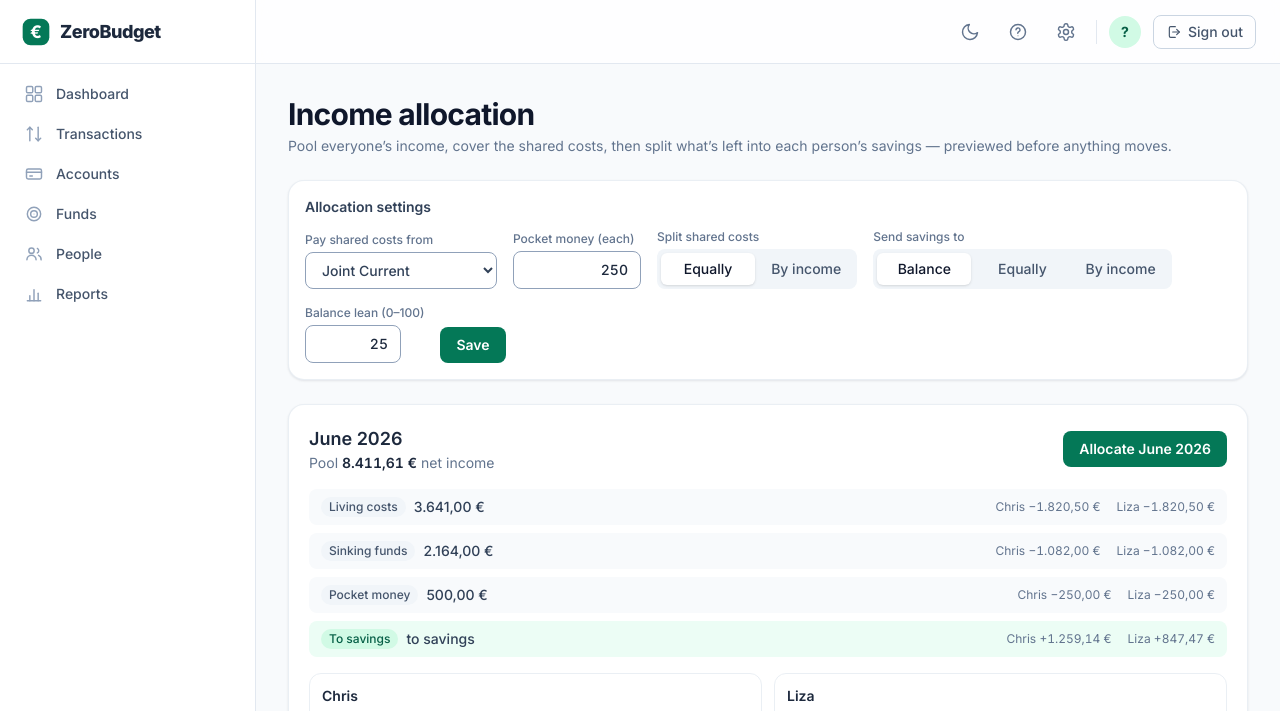
it: AllocationPage › commits the allocation
Click the button with aria-label "Commit allocation".
click(1145, 449)  # box [1063,431,1227,467]
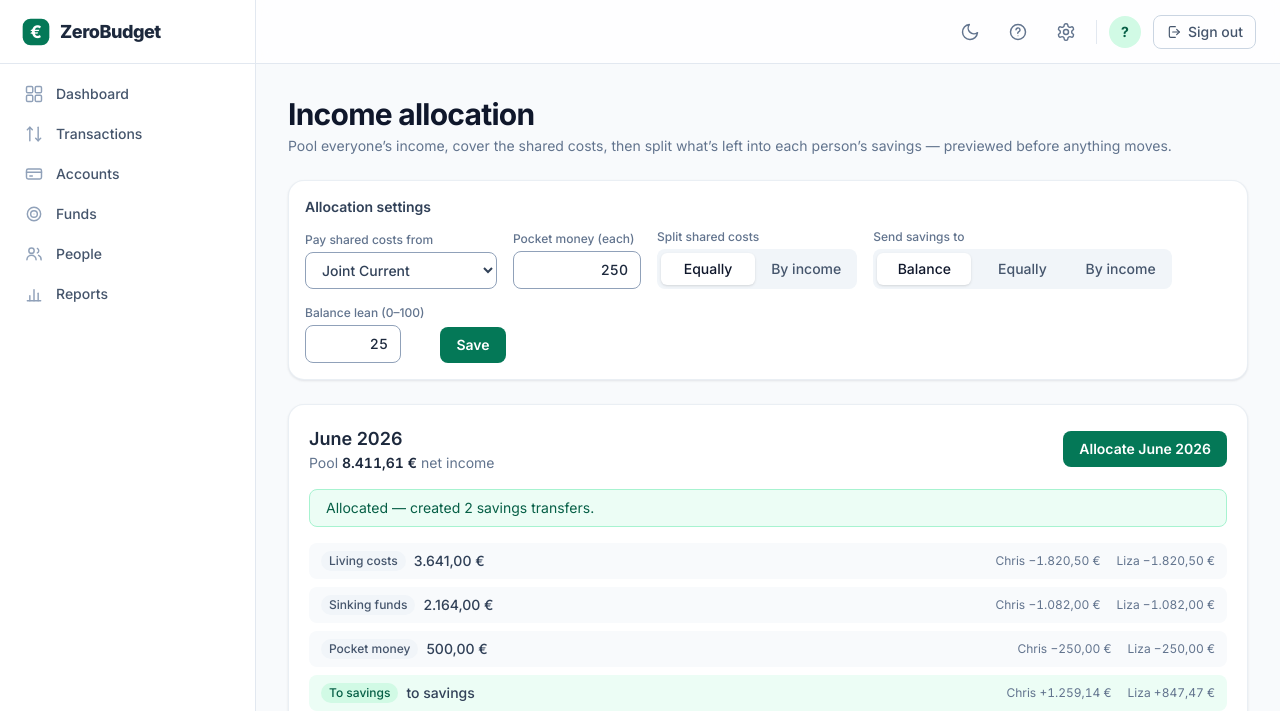
Expected: the text "Allocated — created 2 savings transfers." is shown, [309,489,1227,527]
